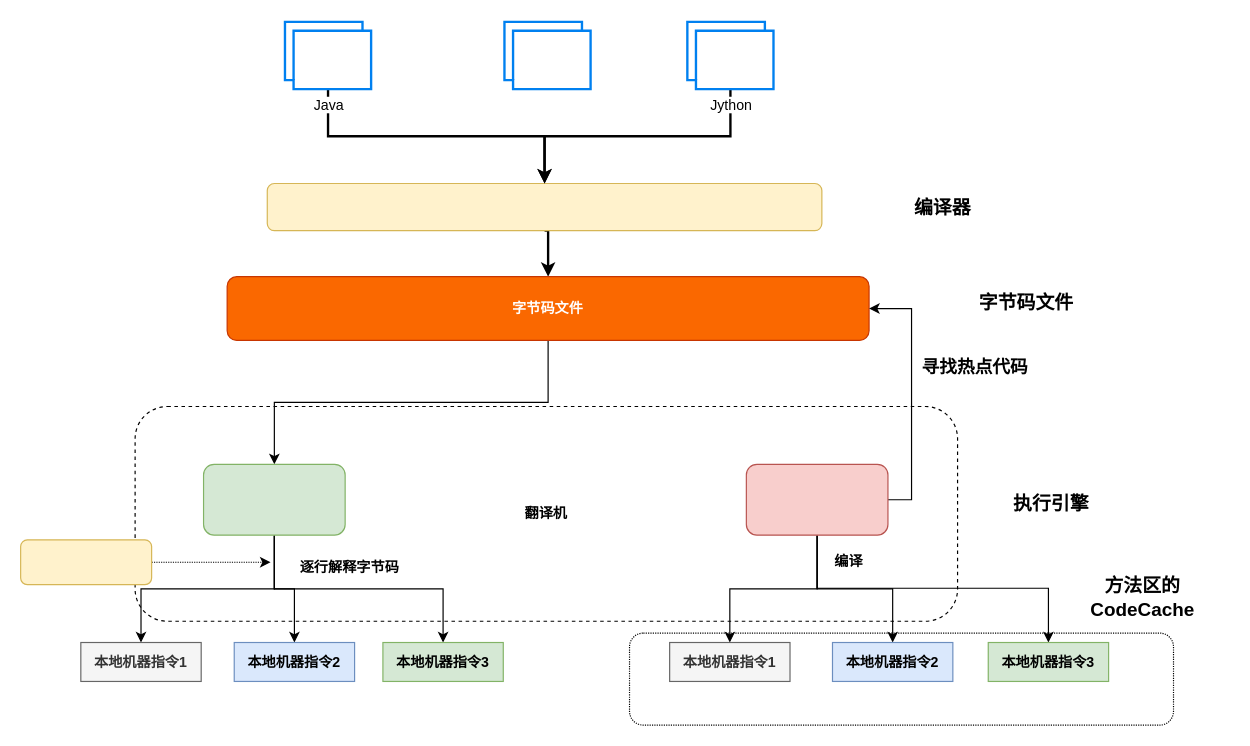
Image size: 1250x746. Some labels were removed from this diagram. The centre of each missing label's shape, as x and y in pixels:
"JIT编译器" goes at point 816,499.
"PC计数器" goes at point 85,562.
"Scala" goes at point 547,55.
"解释器" goes at point 273,499.
"语言统一处理" goes at point 544,206.
